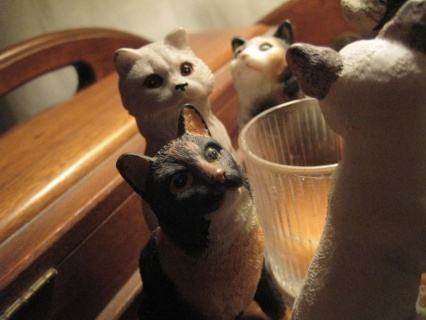Cat: (282, 0, 425, 318), (113, 102, 267, 319), (111, 24, 232, 152), (227, 16, 303, 140)
